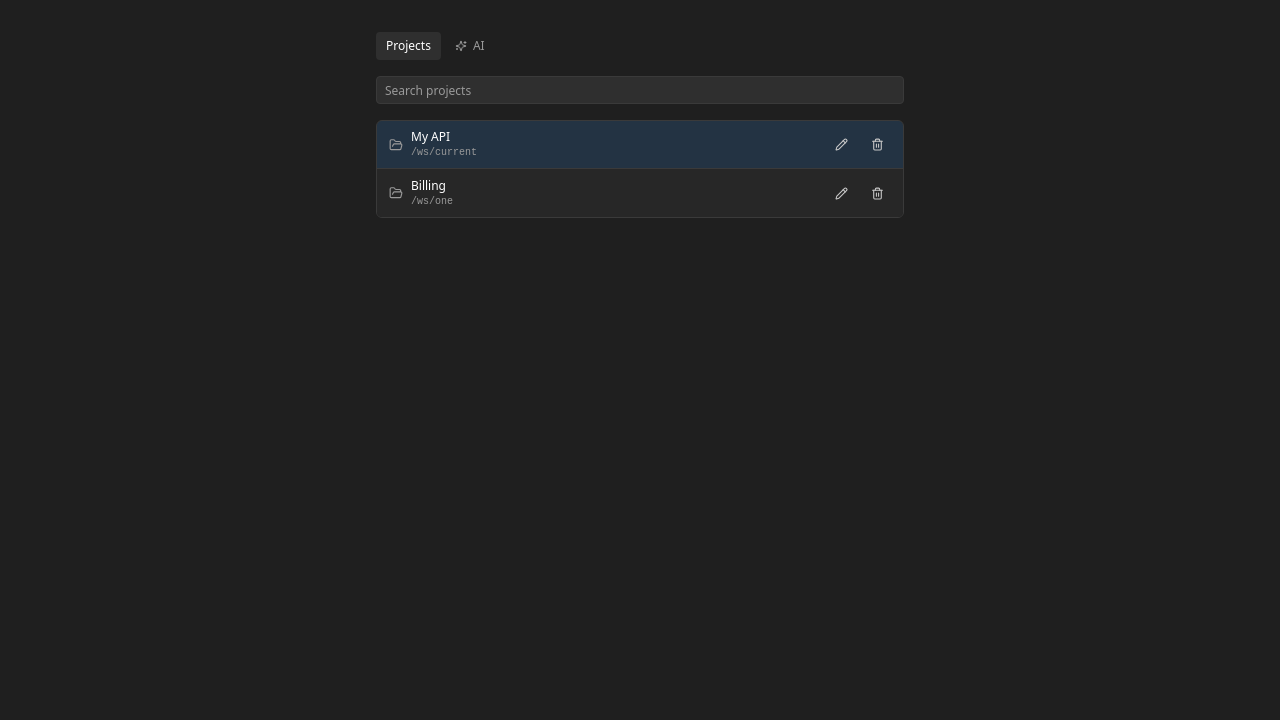
Test: Dashboard › asks before switching away from unsaved changes
This screenshot has width=1280, height=720.
Click the text "Billing": (428, 185) x1=411 y1=176 x2=446 y2=194
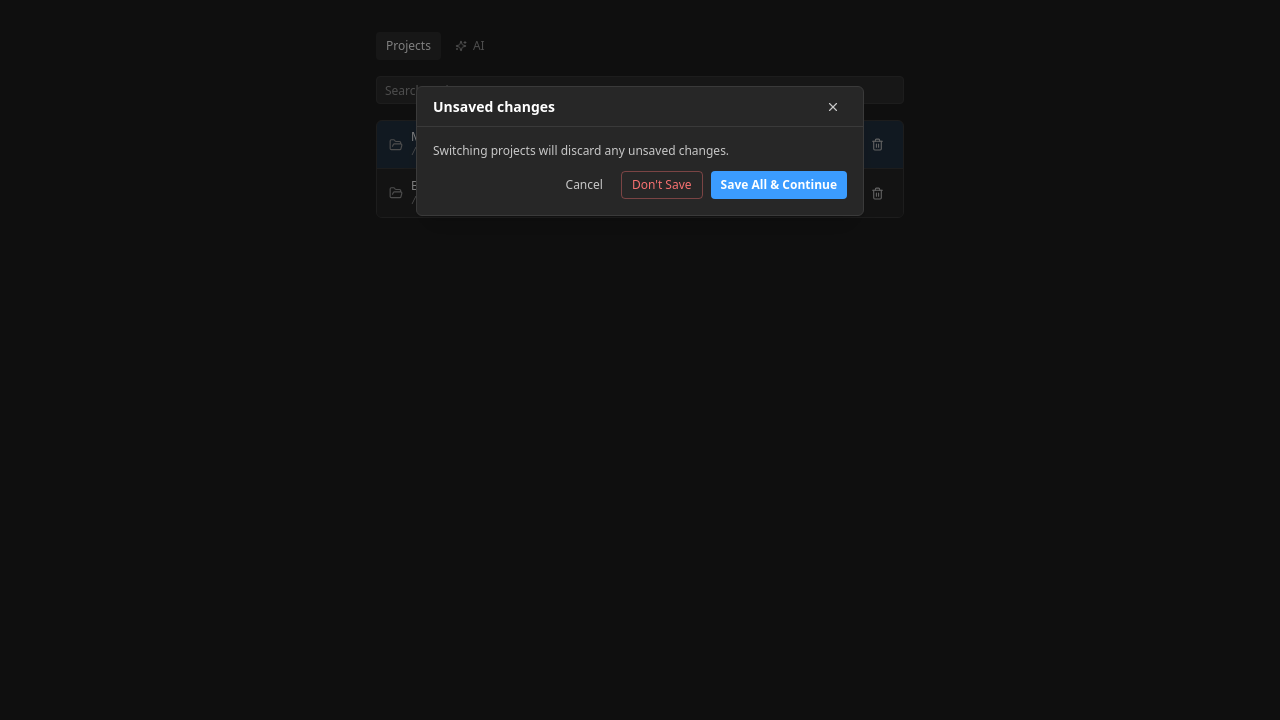
Check: the text "Unsaved changes" is shown, box x1=433 y1=97 x2=555 y2=117
